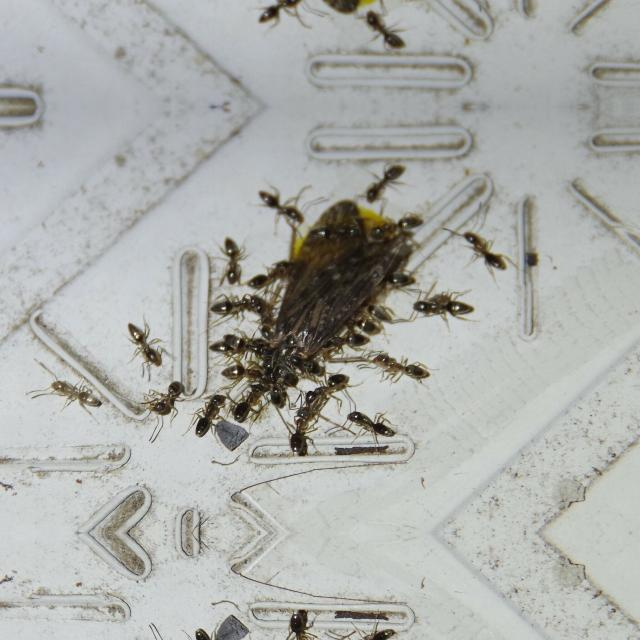Tapinoma: (36, 370, 114, 416), (454, 226, 516, 276), (119, 318, 171, 370), (251, 185, 311, 228), (367, 346, 438, 382), (276, 406, 324, 459), (404, 290, 478, 324), (184, 386, 230, 438), (354, 161, 408, 205), (354, 7, 408, 51), (341, 407, 404, 443), (298, 370, 356, 408), (140, 377, 188, 421), (211, 232, 251, 284), (222, 375, 264, 423), (368, 210, 430, 242), (207, 289, 267, 317), (261, 364, 301, 406), (276, 604, 322, 640), (248, 252, 296, 286), (209, 333, 271, 359), (251, 0, 311, 26), (315, 328, 371, 354), (307, 222, 367, 246), (362, 269, 433, 289), (282, 348, 326, 374), (340, 622, 402, 640), (359, 292, 396, 316), (339, 308, 375, 332), (184, 626, 230, 640)
